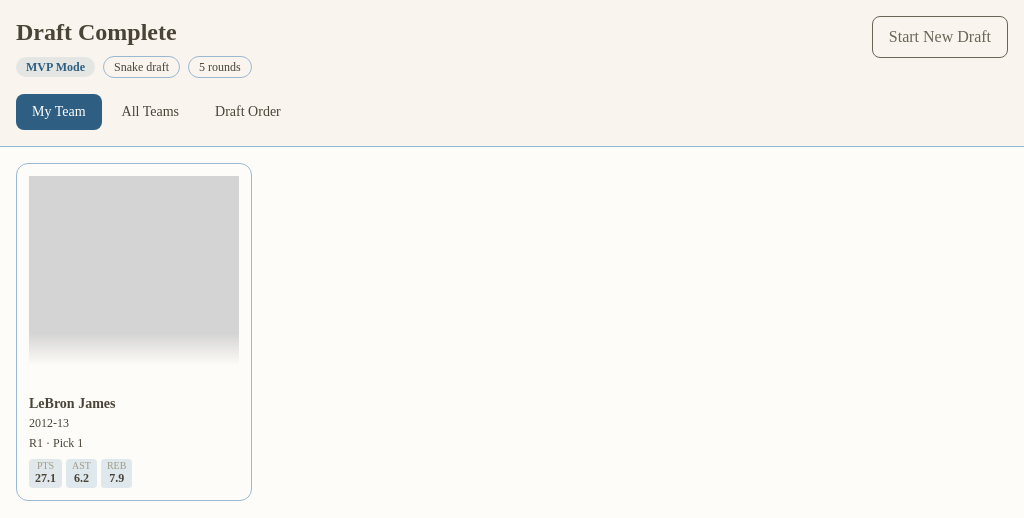
it: DraftResults › "Draft Order" panel › groups picks by round with round headers
Click the tab "Draft Order": click(248, 112) [199,94,297,130]
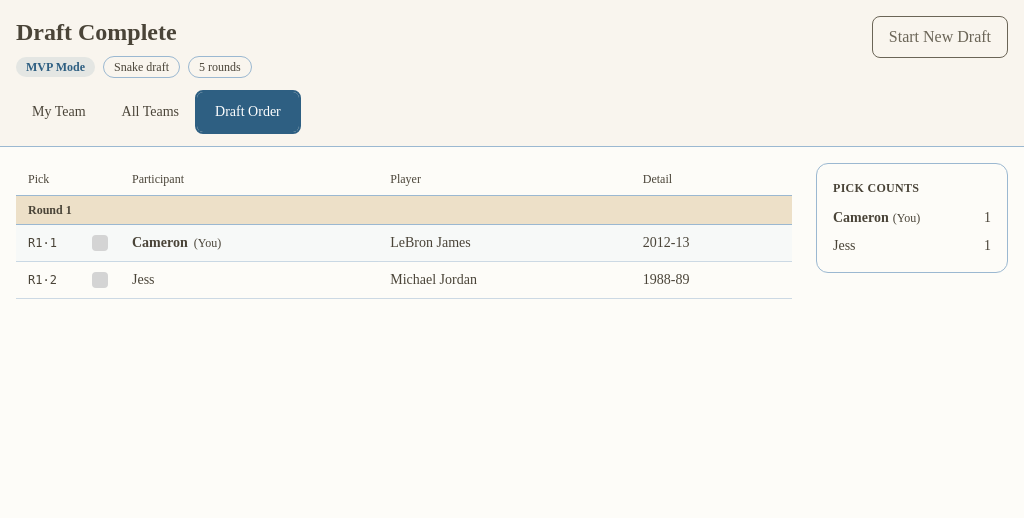
Expected: the text "Round 1" is shown, [16,196,792,224]
